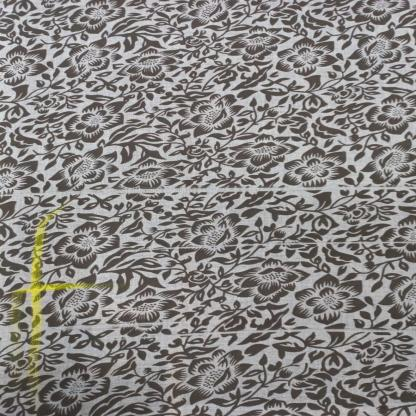spot: (5, 205, 127, 399)
